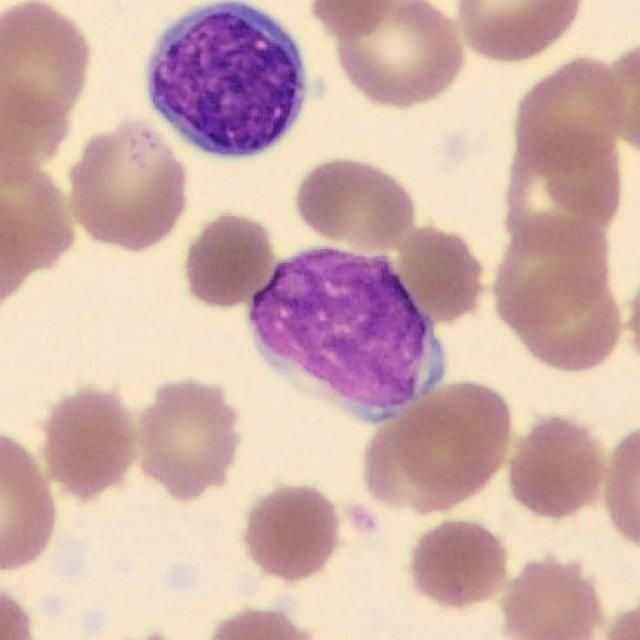Linfocito: (247, 251, 445, 424), (146, 3, 304, 157)
